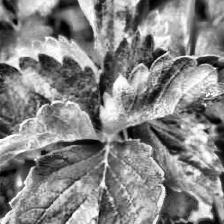Powdery Mildew Leaf: (96, 27, 224, 143), (129, 103, 224, 207), (69, 0, 171, 63)
